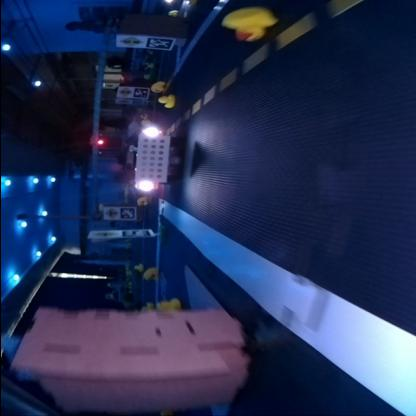Duckie: (221, 8, 274, 41), (156, 298, 178, 310), (157, 93, 173, 108), (150, 80, 162, 92), (142, 267, 154, 279), (134, 196, 146, 204), (167, 10, 176, 15), (132, 263, 140, 268), (140, 121, 148, 126), (139, 113, 144, 118)
Intersection sign: (103, 206, 116, 218)
QR code: (144, 37, 172, 49), (119, 207, 133, 218), (120, 230, 148, 235), (134, 87, 146, 96), (132, 100, 144, 104)
Signal sign: (118, 36, 140, 47), (116, 86, 130, 96)
